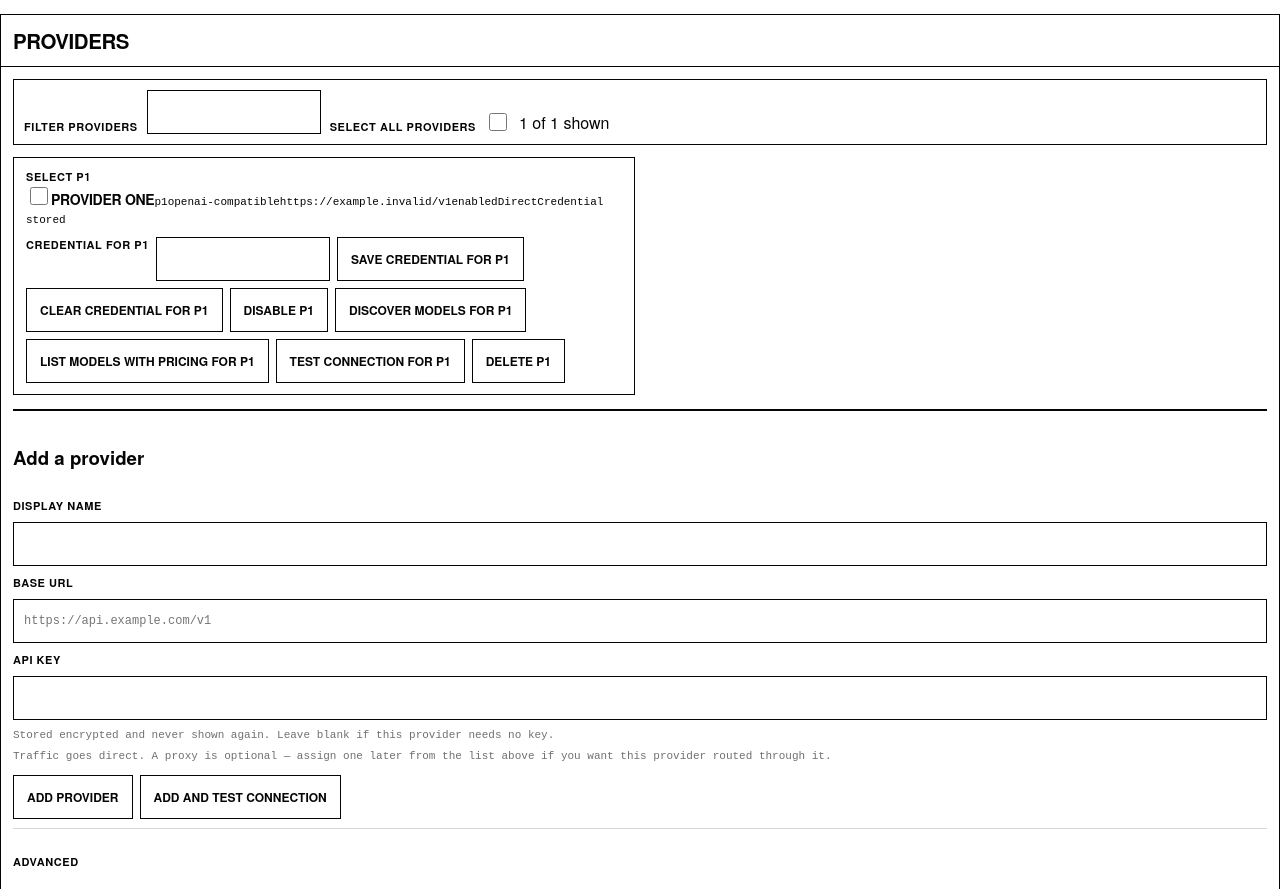
Test case: free-first catalogue display › lists free models and keeps paid models out of the DOM until asked
The width and height of the screenshot is (1280, 889).
Click the button with test id "catalogue-p1".
click(147, 361)  # box x1=26 y1=339 x2=269 y2=383
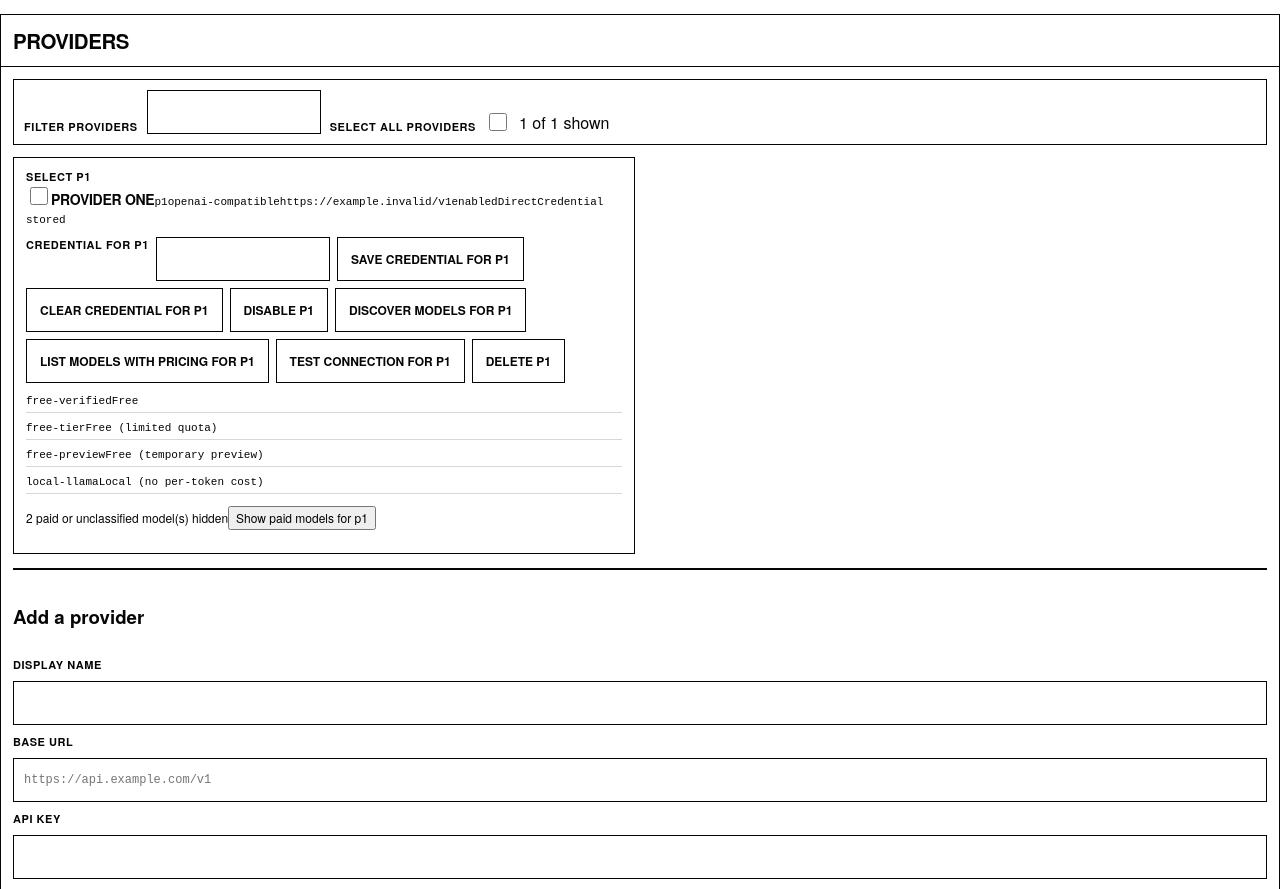
Check: the list item with test id "model-free-verified" is shown, box x1=26 y1=390 x2=622 y2=413
Check: the list item with test id "model-free-tier" is shown, box x1=26 y1=417 x2=622 y2=440
Check: the list item with test id "model-free-preview" is shown, box x1=26 y1=444 x2=622 y2=467
Click the button with test id "show-paid-p1".
click(302, 518)  # box x1=228 y1=506 x2=376 y2=530
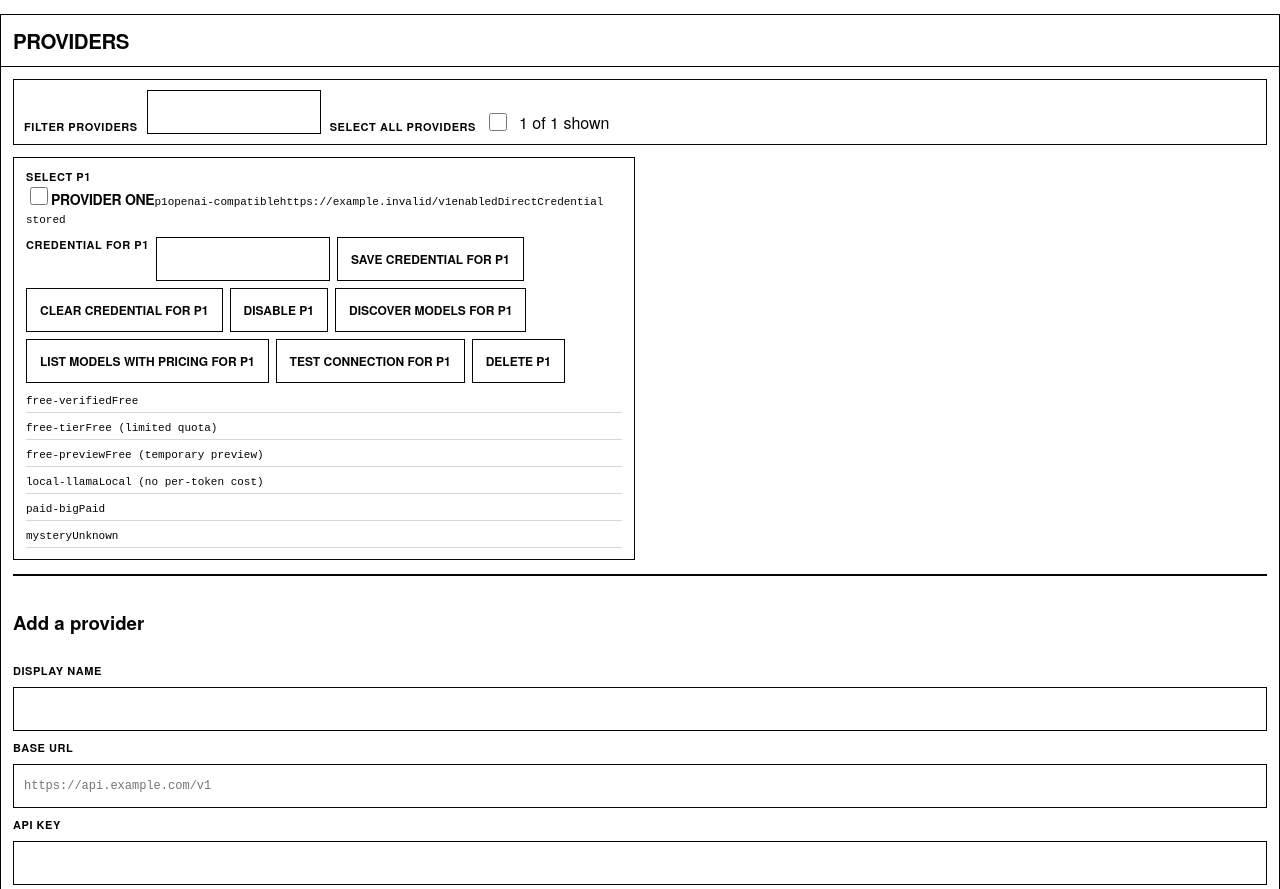
Check: the list item with test id "model-paid-big" is shown, box x1=26 y1=498 x2=622 y2=521
Check: the list item with test id "model-mystery" is shown, box x1=26 y1=525 x2=622 y2=548
